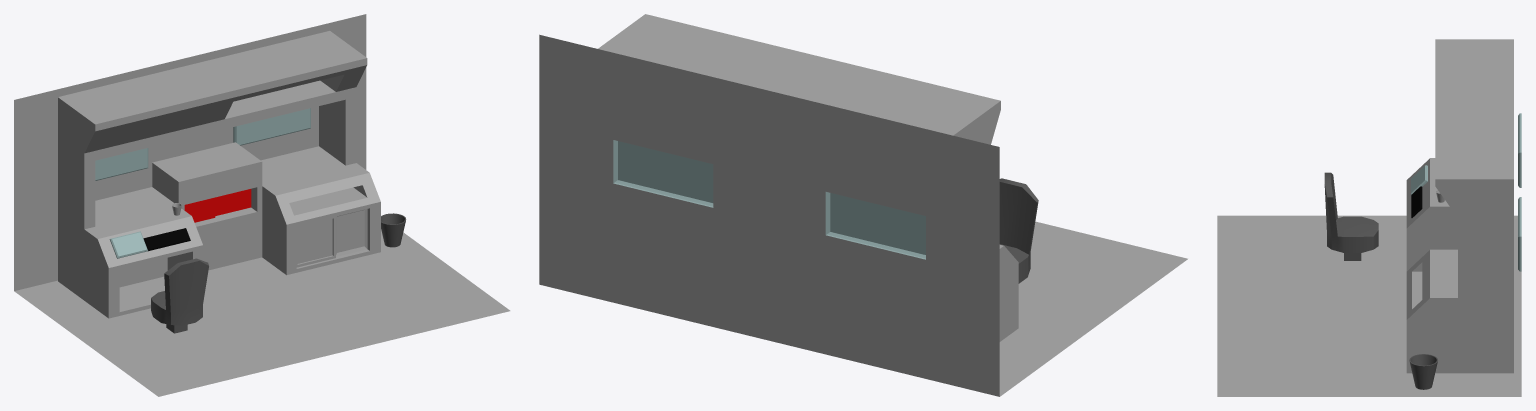
File: Hallway-Finish.fbx
3 renders of one model, left to right at view 1: azimuth 30°, elevation 25°; view 2: azimuth 150°, elevation 25°; view 3: azimuth 270°, elevation 25°, orthographic. The views are drawn at different scales.
Parts seen in each view (by area): view 1: Work_Station, pPlane1, Chair, Waste_Bin; view 2: pPlane1, Work_Station, Chair; view 3: pPlane1, Work_Station, Chair, Waste_Bin.
Part boxes in pixels (left/top/right/bottom): Work_Station: left=58, top=31, right=380, bottom=318; pPlane1: left=14, top=14, right=510, bottom=396; Chair: left=151, top=258, right=208, bottom=333; Waste_Bin: left=381, top=213, right=406, bottom=247; pPlane1: left=539, top=34, right=1187, bottom=396; Work_Station: left=598, top=14, right=1018, bottom=341; Chair: left=999, top=178, right=1038, bottom=283; pPlane1: left=1217, top=113, right=1521, bottom=396; Work_Station: left=1406, top=39, right=1513, bottom=373; Chair: left=1324, top=172, right=1378, bottom=260; Waste_Bin: left=1409, top=354, right=1437, bottom=389.
Bounding box in the file's own units: 18.94 × 9.83 × 13.45.
